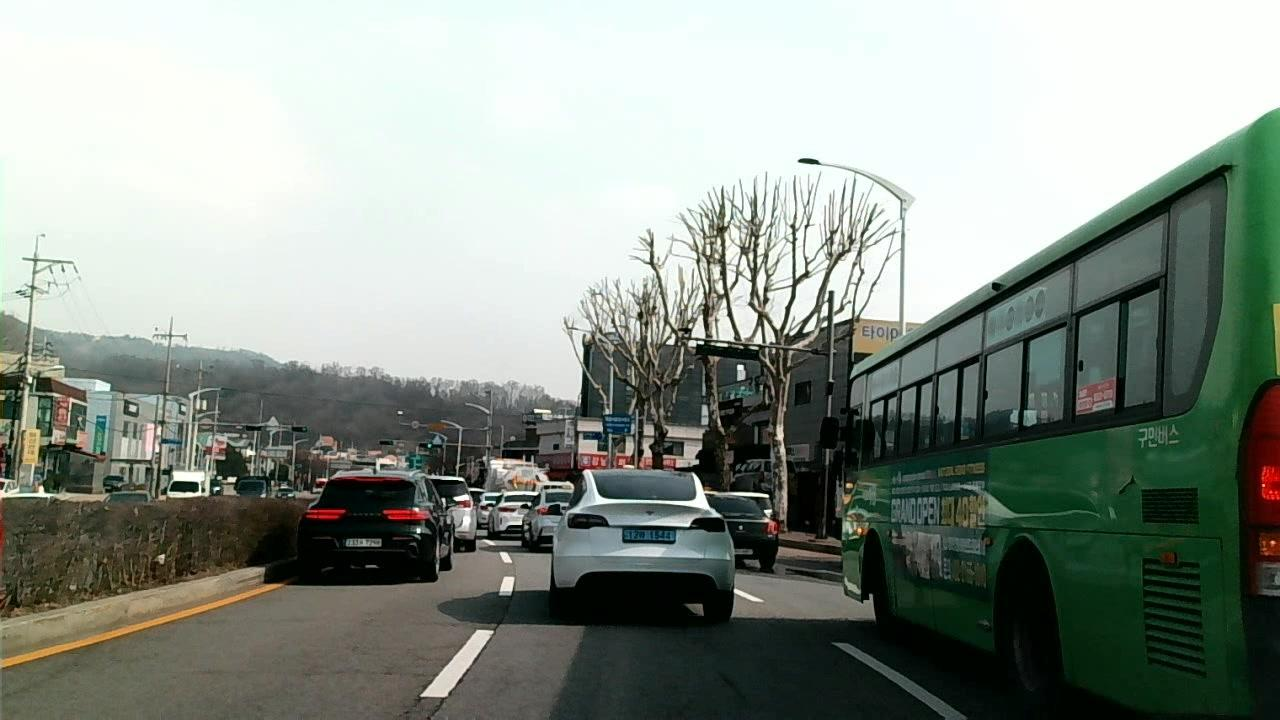banner: (428, 614, 503, 720)
